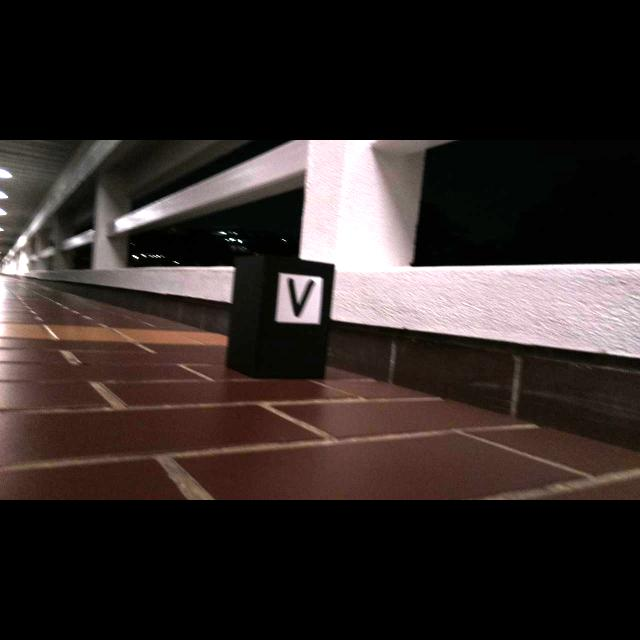V: (288, 277, 315, 317)
